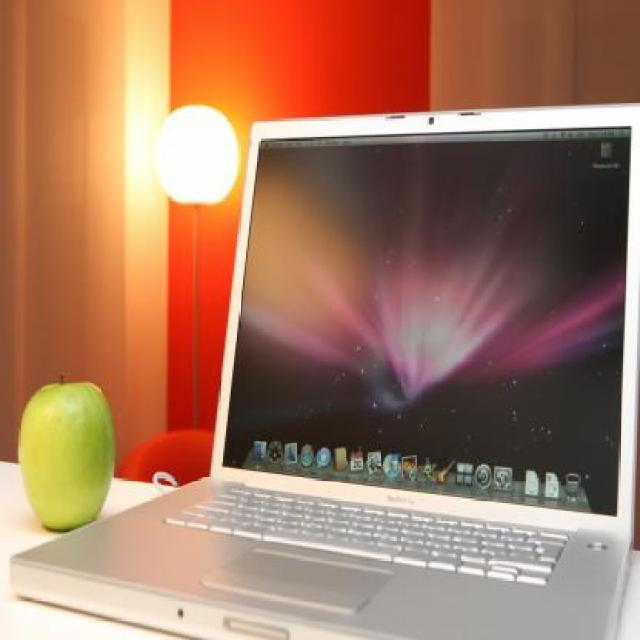Apple pie: (15, 374, 111, 530)
